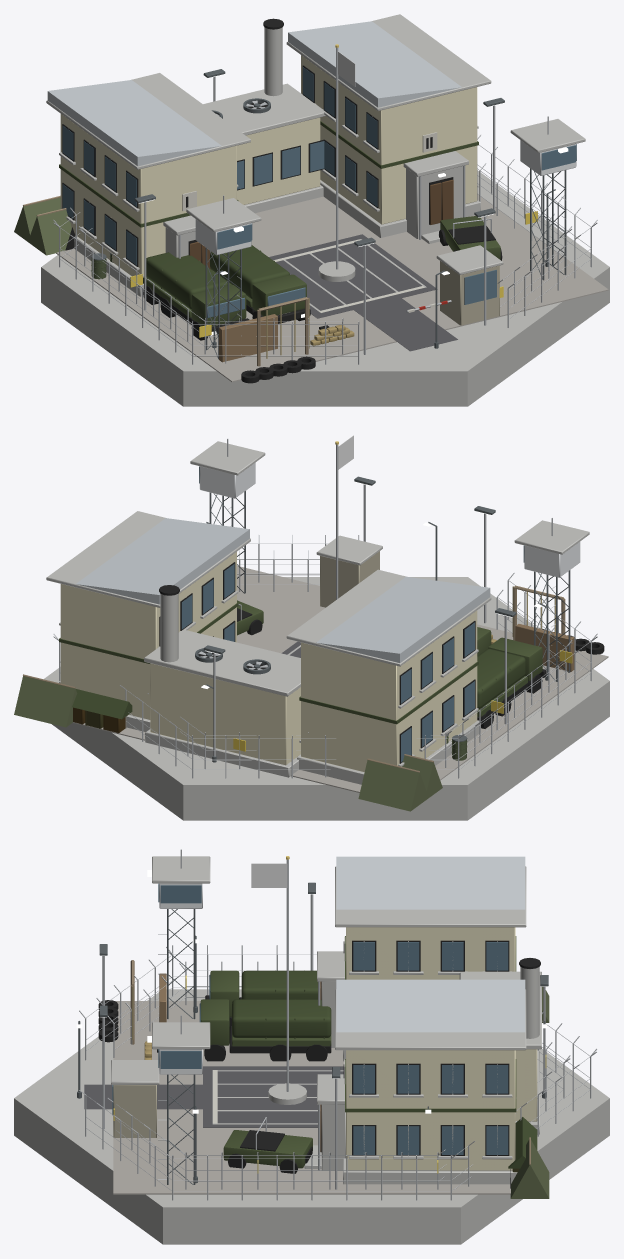
The model's file is barracks.glb.
3 views of the same model, one above another, from view 1: azimuth 30°, elevation 25°; view 2: azimuth 150°, elevation 25°; view 3: azimuth 270°, elevation 25° (orthographic). The views are drawn at different scales.
Visible parts, largest first — view 1: wall_concrete, plaster, gravel, cladding, paint, glass, metal, asphalt, dark, steel_dark, wood, sandbag; view 2: wall_concrete, plaster, cladding, paint, gravel, metal, glass, steel_dark, dark, wood; view 3: wall_concrete, cladding, plaster, gravel, paint, metal, glass, asphalt, dark, steel_dark, wood, banner.
Boxes of the visible parts, box(x1,y1,x2,y2) form: wall_concrete: box(41, 14, 609, 406); plaster: box(60, 55, 477, 277); gravel: box(56, 194, 608, 382); cladding: box(47, 21, 576, 325); paint: box(14, 121, 500, 358); glass: box(62, 67, 576, 318); metal: box(53, 47, 597, 364); asphalt: box(269, 234, 457, 351); dark: box(62, 18, 502, 383); steel_dark: box(91, 69, 566, 359); wood: box(23, 179, 453, 366); sandbag: box(310, 325, 354, 346); wall_concrete: box(44, 441, 609, 820); plaster: box(60, 552, 477, 772); cladding: box(76, 462, 580, 662); paint: box(14, 586, 555, 811); gravel: box(73, 566, 608, 792); metal: box(53, 438, 597, 778); glass: box(181, 466, 524, 762); steel_dark: box(195, 476, 570, 762); dark: box(159, 562, 604, 763); wood: box(23, 585, 574, 772); wall_concrete: box(14, 856, 609, 1244); cladding: box(113, 856, 525, 1137); plaster: box(346, 927, 537, 1170); gravel: box(113, 1001, 510, 1194); paint: box(132, 936, 549, 1198); metal: box(79, 849, 596, 1200); glass: box(112, 883, 508, 1154); asphalt: box(84, 1066, 343, 1127); dark: box(98, 940, 540, 1188); steel_dark: box(77, 882, 548, 1184); wood: box(130, 960, 530, 1172); banner: box(251, 863, 287, 887).
Bounding box in the file's own units: 21.3 × 12.7 × 24.6.
